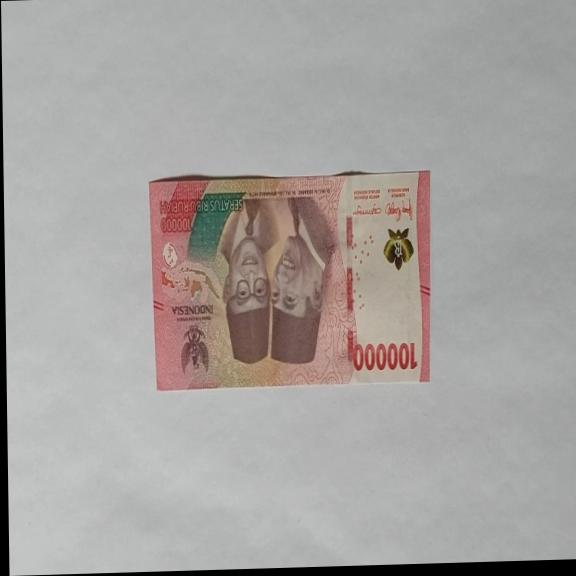Kertas: (148, 168, 433, 393), (351, 339, 418, 375)
